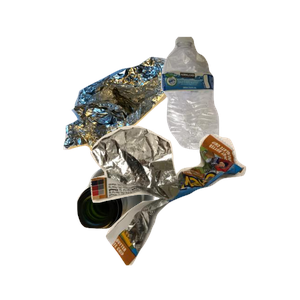glass: (74, 158, 223, 300)
metal: (61, 54, 225, 202)
plastic: (159, 34, 300, 176)
trash: (88, 123, 300, 300)
